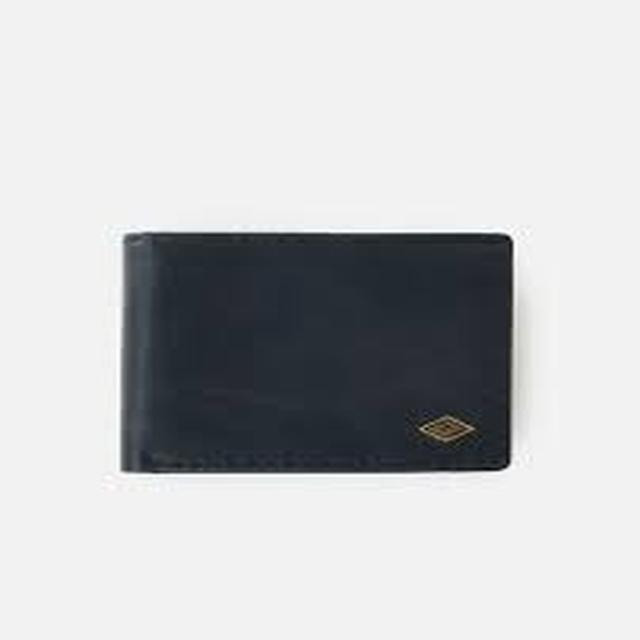wallet: (95, 216, 538, 511)
